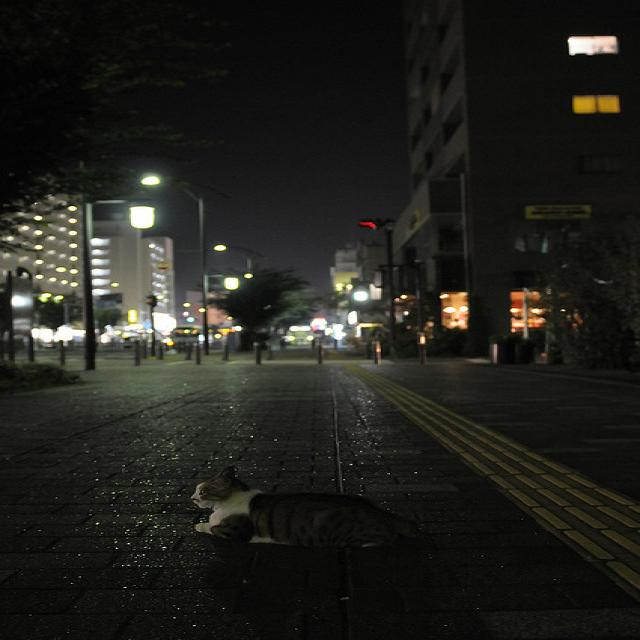Cat: (174, 450, 460, 587)
